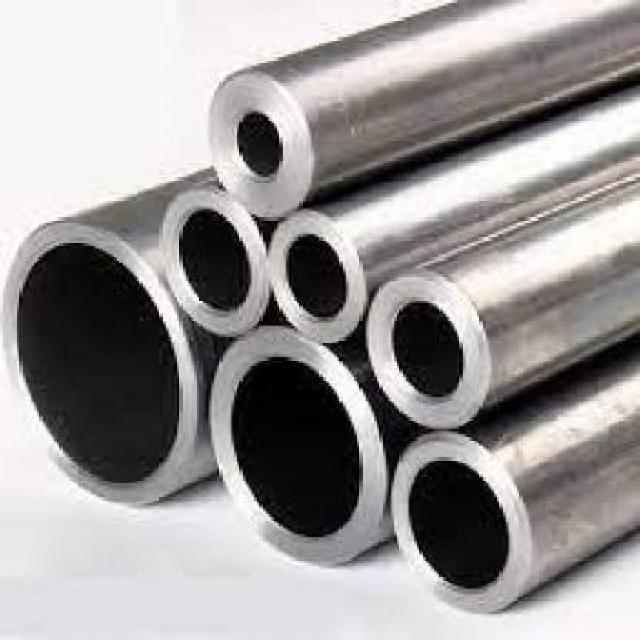pipe: (0, 217, 203, 514), (206, 326, 389, 571), (386, 431, 534, 620), (365, 271, 493, 434), (157, 189, 270, 340), (205, 69, 316, 220), (265, 211, 370, 348)
